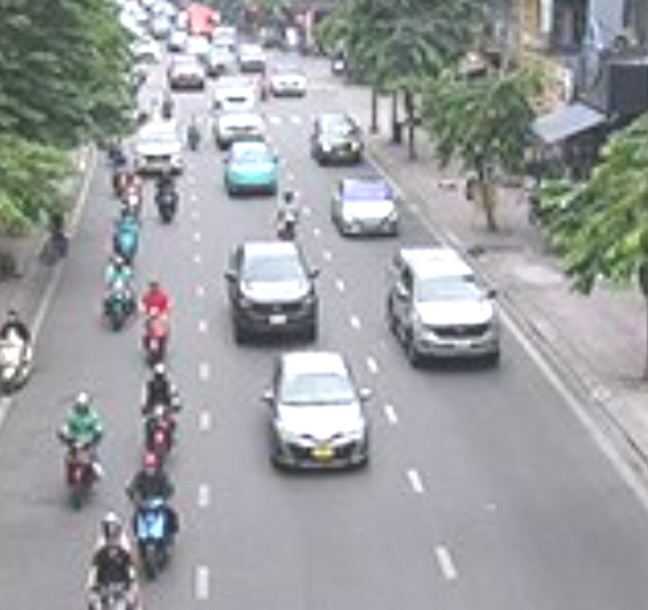car: (390, 246, 501, 367), (270, 352, 369, 471), (227, 240, 319, 343), (333, 174, 399, 236), (223, 142, 279, 196), (311, 112, 363, 165), (133, 121, 184, 173)
